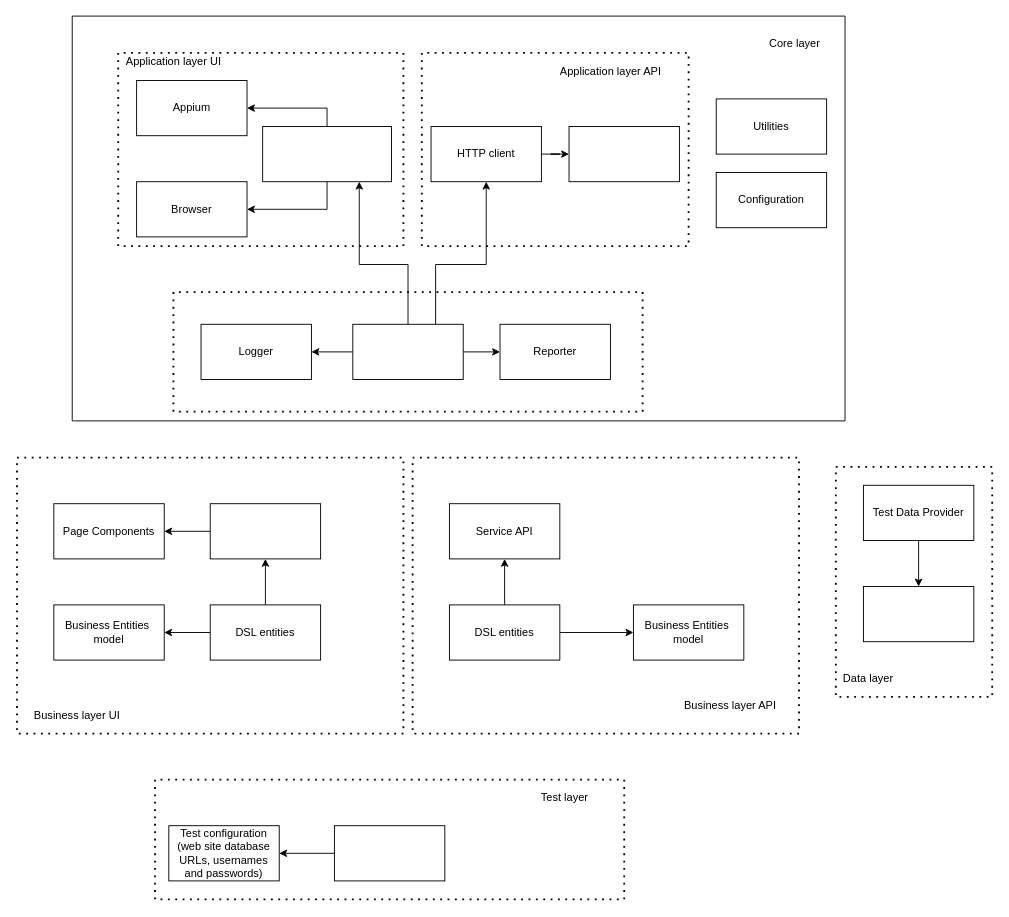
This 1009x917 diagram has some shape labels left out. Here are the shapes that lost their labels. From the top down, the box of each, then its label:
(262, 126, 391, 182): WebDriver
(568, 126, 679, 182): Web Service
(352, 323, 463, 380): Test Runner
(209, 503, 321, 559): Page Objects
(862, 586, 974, 642): Test Data Repository
(334, 825, 445, 881): Test suites
